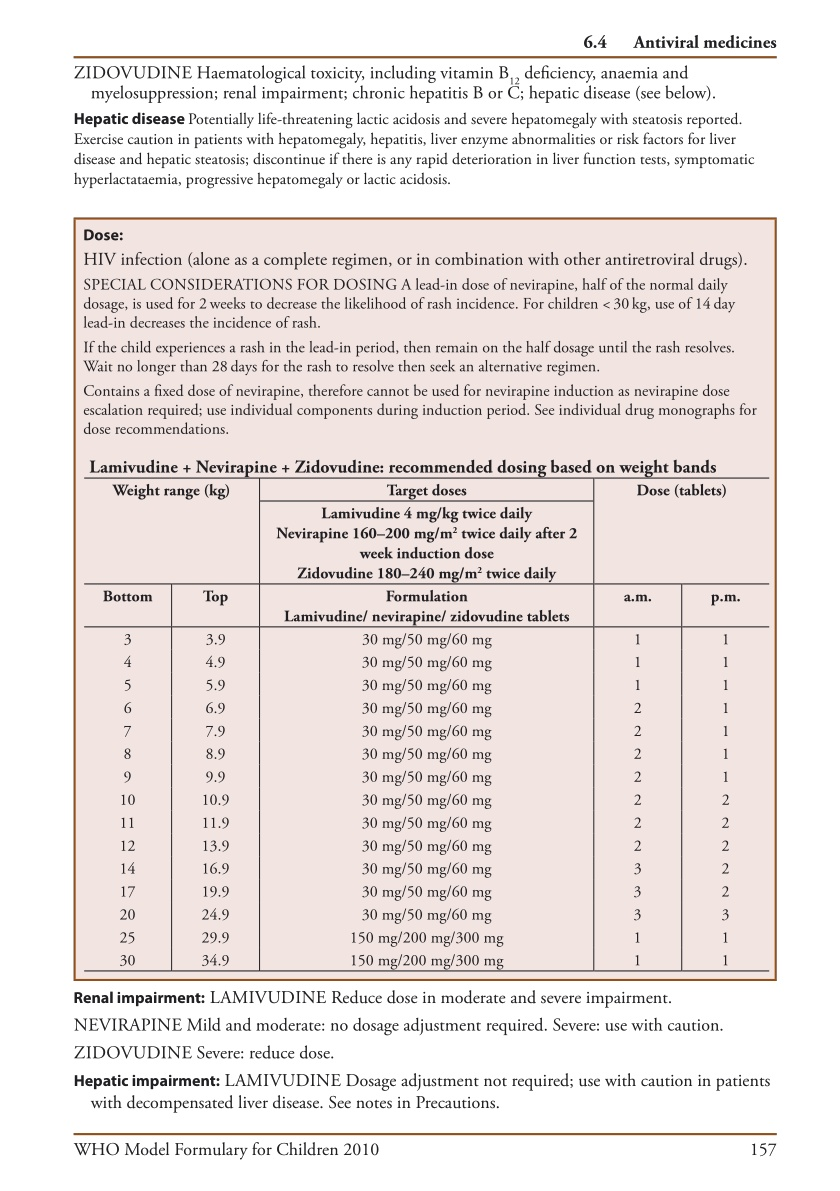partial_lined_merged_cells: (83, 475, 771, 972)
